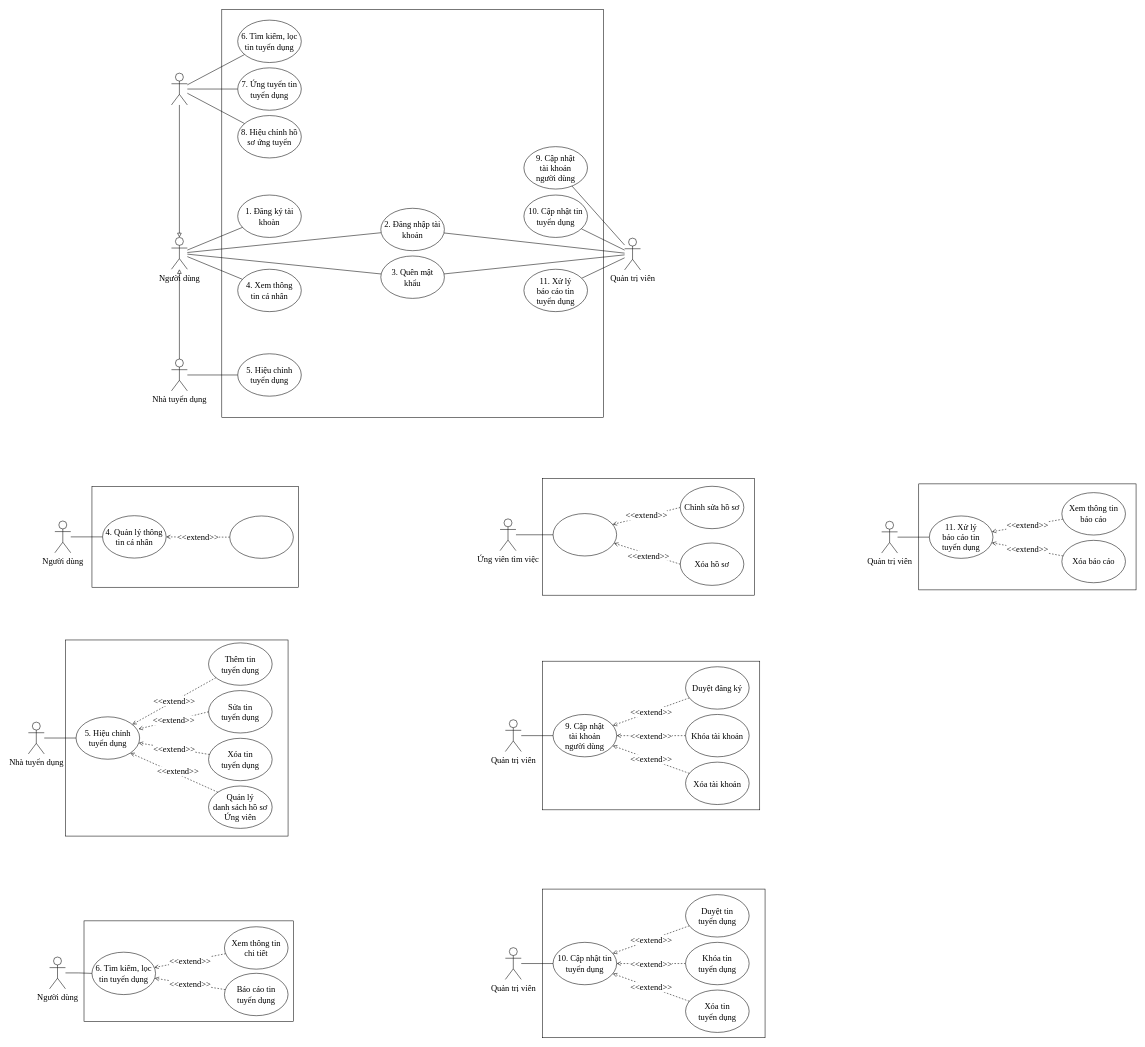
The diagram is 1145 pixels wide and 1047 high, and some of its shapes have lost their labels. The centre of each missing label's shape, as x and y in pixels:
"8. Quản lý hồ sơ ứng tuyển" goes at point (585, 534).
"Sửa thông tin cá nhân" goes at point (261, 536).
"Ứng viên tìm việc" goes at point (179, 89).
